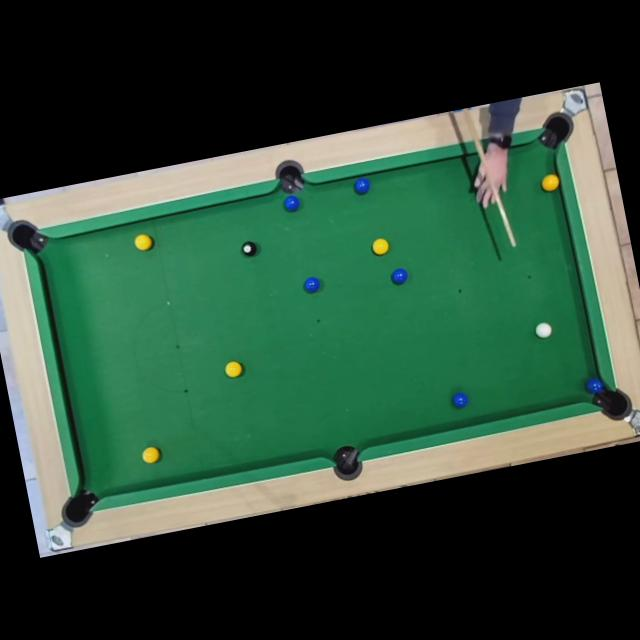Ball: (222, 360, 244, 379), (140, 446, 160, 466), (133, 233, 153, 252), (353, 177, 372, 196), (282, 195, 301, 214), (302, 276, 322, 294), (584, 377, 604, 395), (451, 392, 469, 411), (542, 173, 560, 192), (390, 268, 409, 286), (372, 238, 391, 256), (240, 240, 258, 258), (534, 322, 552, 339)
